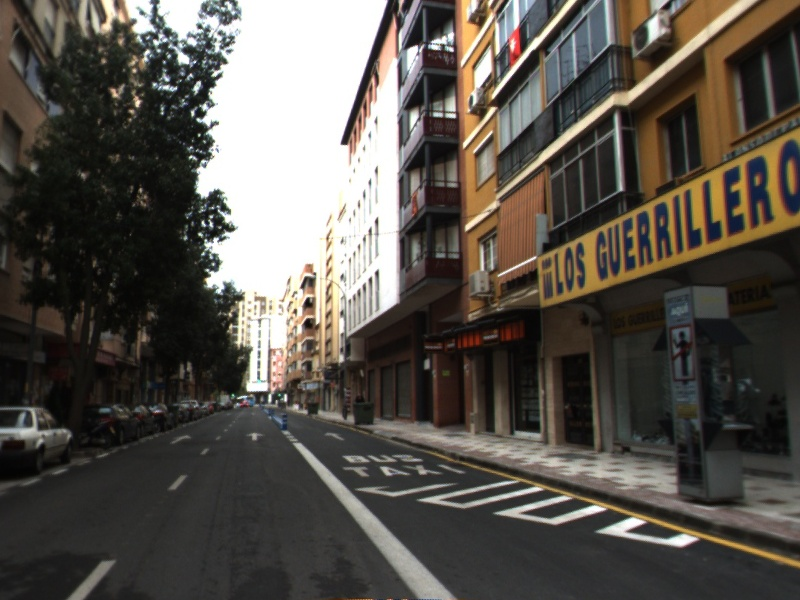STRAIGHT: (167, 433, 194, 446), (322, 430, 347, 442), (244, 430, 267, 442)
